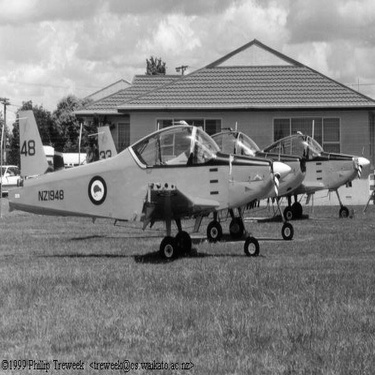airplane: (4, 98, 291, 272), (83, 120, 308, 242), (166, 105, 370, 230)
